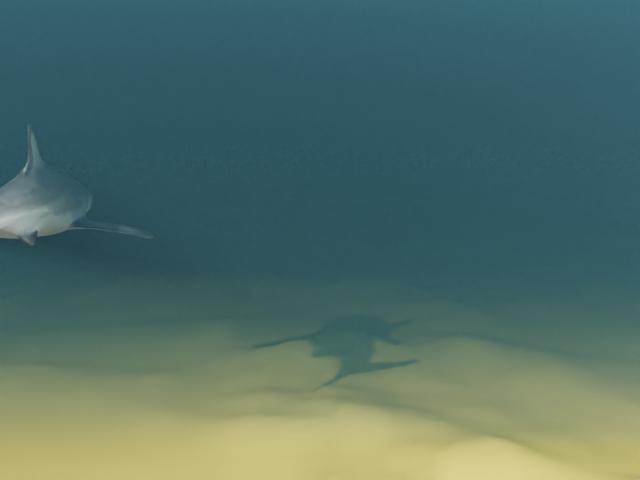Carribean Shark.001: (0, 124, 154, 284)
